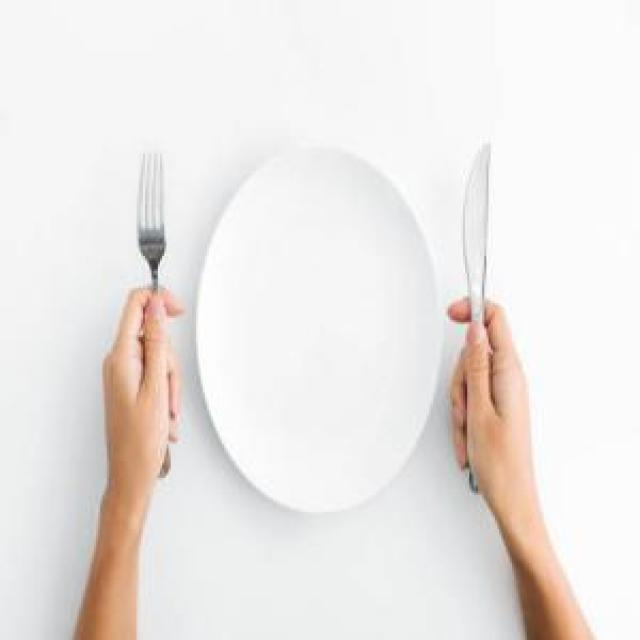knife: (440, 135, 520, 502)
